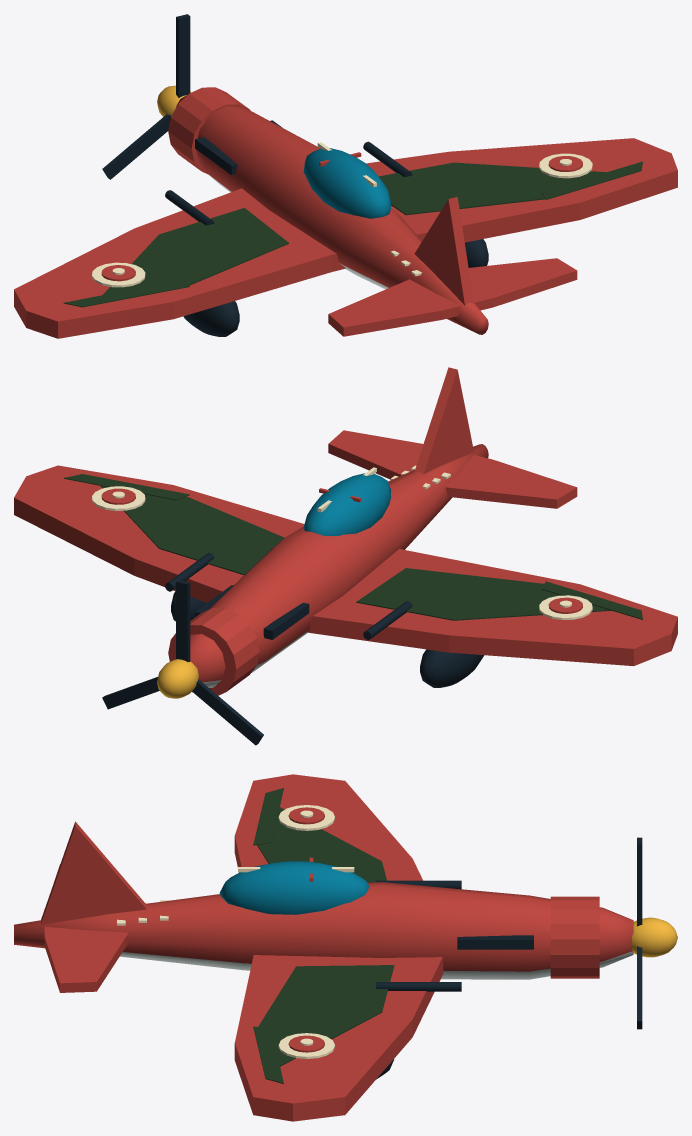
File: dart.glb
The picture shows the model from 3 angles, top to bottom: view 1: azimuth 30°, elevation 25°; view 2: azimuth 150°, elevation 25°; view 3: azimuth 270°, elevation 25°; orthographic projection. The views are drawn at different scales.
Visible parts, largest first — view 1: dart-airframe, blade_0_0.004, blade_0_2.004; view 2: dart-airframe, blade_0_2.004, blade_0_0.004, blade_0_1.004; view 3: dart-airframe, blade_0_0.004.
Part boxes in pixels (box(x1,y1,x2,y2)): dart-airframe: box(14, 85, 677, 338); blade_0_0.004: box(176, 14, 190, 97); blade_0_2.004: box(102, 114, 170, 179); dart-airframe: box(14, 367, 677, 698); blade_0_2.004: box(192, 679, 263, 745); blade_0_0.004: box(176, 580, 190, 662); blade_0_1.004: box(102, 677, 159, 709); dart-airframe: box(14, 774, 677, 1121); blade_0_0.004: box(637, 837, 642, 926).
Bounding box in the file's own units: 2.54 × 0.72 × 2.17.
